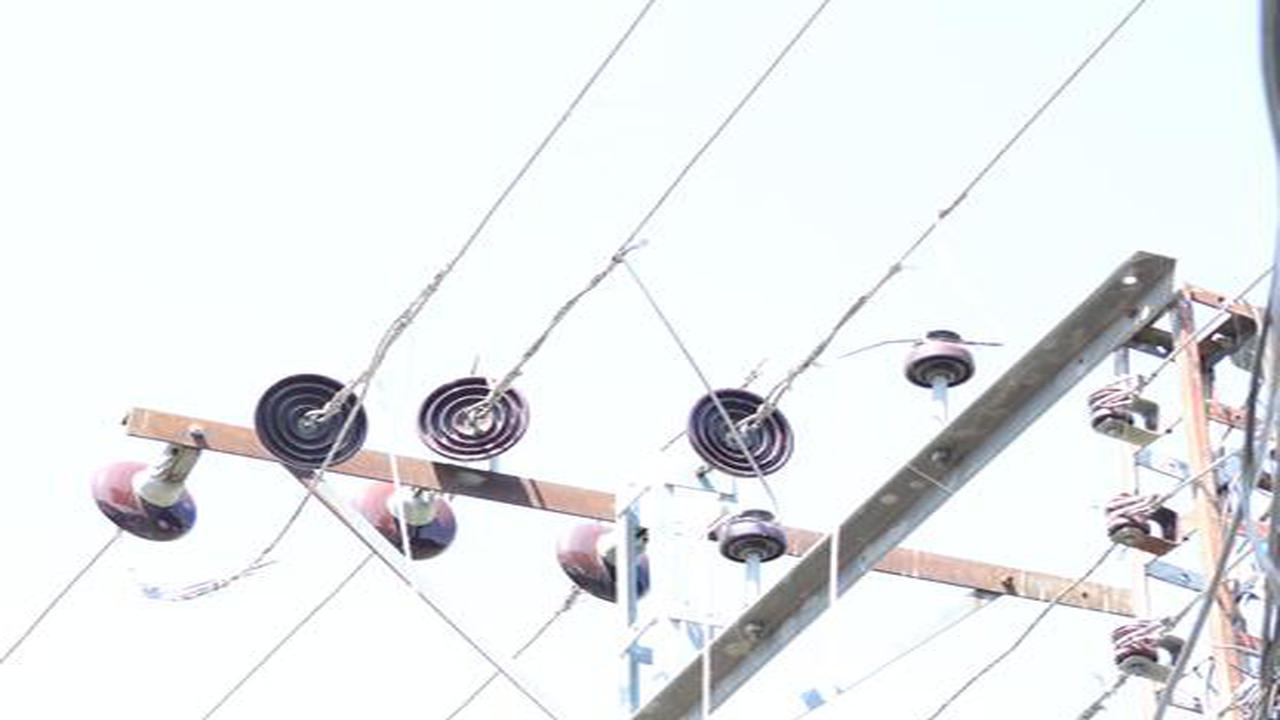insulator_disc: (251, 364, 371, 473), (413, 374, 537, 465), (683, 385, 801, 478), (92, 455, 200, 543), (354, 482, 460, 567), (557, 517, 652, 602)
insulator_pin: (902, 325, 980, 394), (717, 511, 791, 566)
